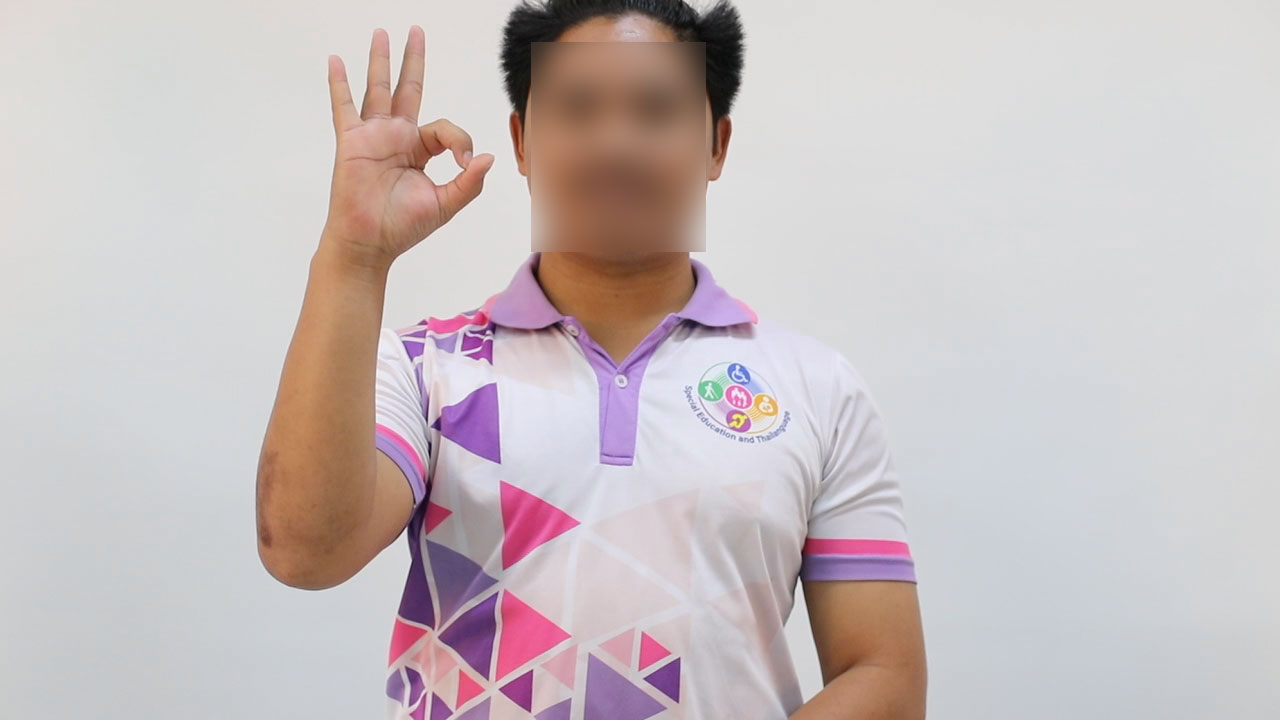for: (289, 14, 500, 269)
